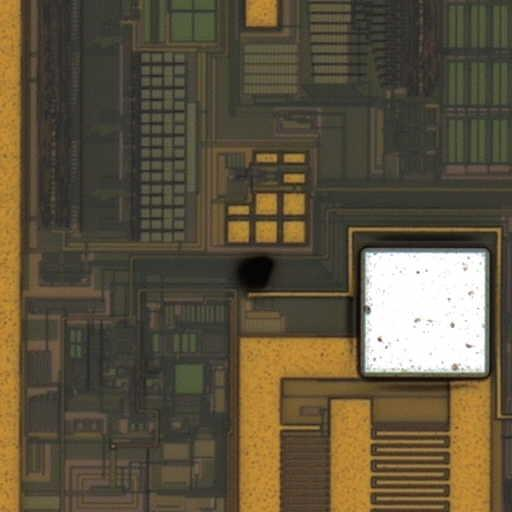PARTICLE: (230, 245, 282, 297)
